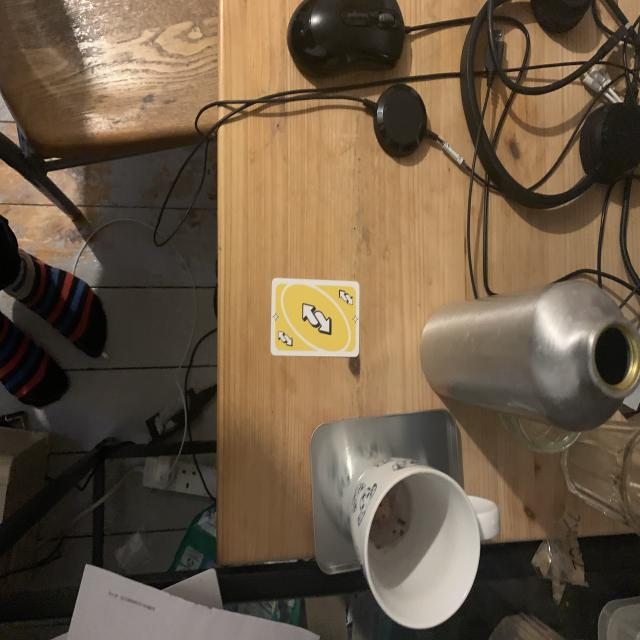lyellowrevers-20: (335, 286, 356, 308)
